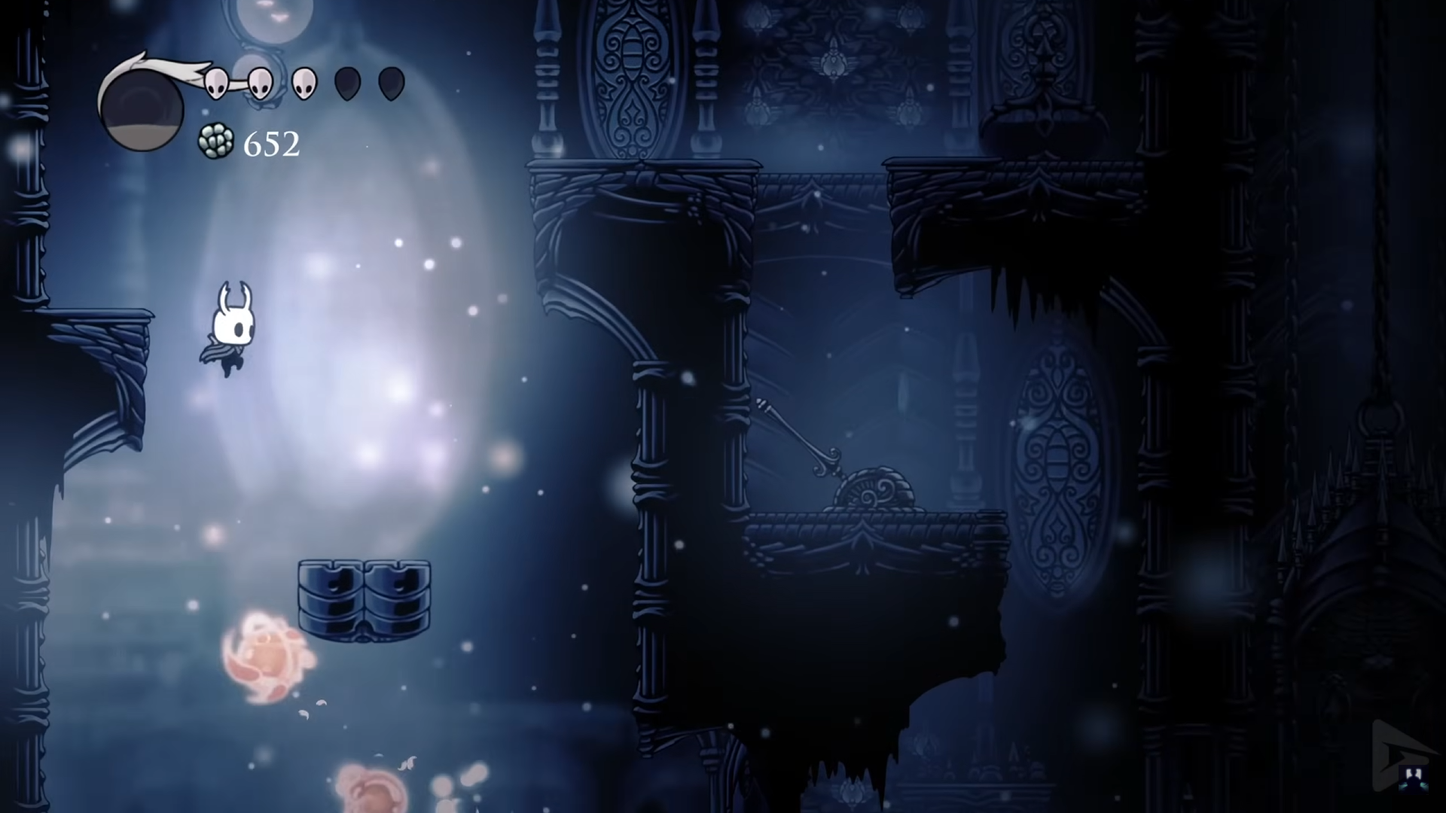HK: (200, 278, 262, 379)
